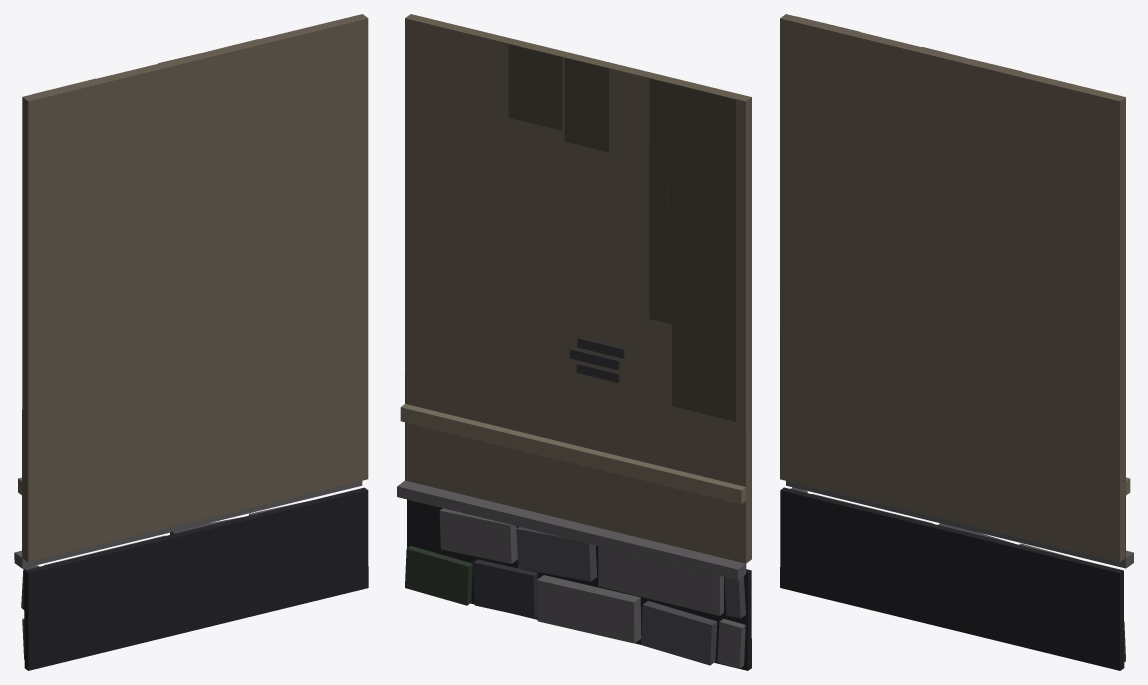
File: SM_ENV_FachadaLisa.fbx
3 views of the same model, side by side, from view 1: azimuth 30°, elevation 25°; view 2: azimuth 150°, elevation 25°; view 3: azimuth 330°, elevation 25° (orthographic).
Parts seen in each view (by area): view 1: SM_ENV_FachadaLisa; view 2: SM_ENV_FachadaLisa; view 3: SM_ENV_FachadaLisa.
Part boxes in pixels (x1,y1,x2,y2): SM_ENV_FachadaLisa: (14, 14, 368, 670); SM_ENV_FachadaLisa: (397, 14, 751, 670); SM_ENV_FachadaLisa: (780, 14, 1133, 670).
Bounding box in the file's own units: 2 × 3.2 × 0.1406.
